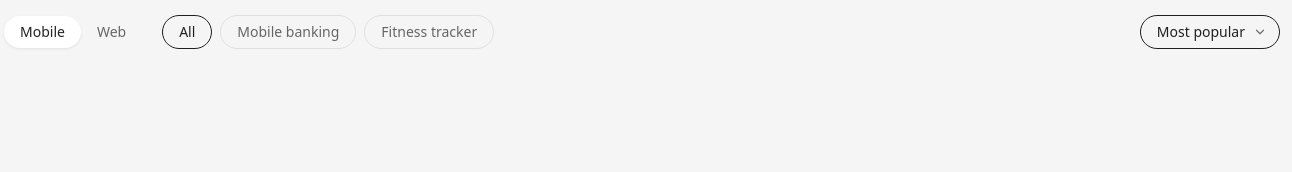
Test: <ShowcaseFilterBar /> › renders a controlled sort select
Press the mouse on the dropdown named "Sort" at [1210, 32], box [1140,15,1280,49]
Press the mouse on the dropdown named "Sort" at [1210, 32], box [1140,15,1280,49]
Click the dropdown named "Sort" at [1210, 32], box [1140,15,1280,49]
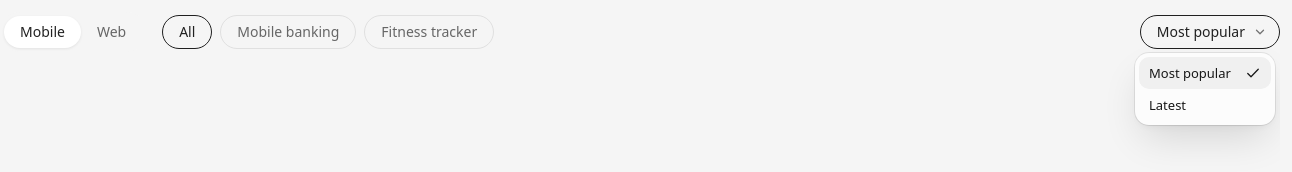
Expected: the options read "Most popular", "Latest", in this order, [1139,57,1271,89]; [1149,96,1186,114]
